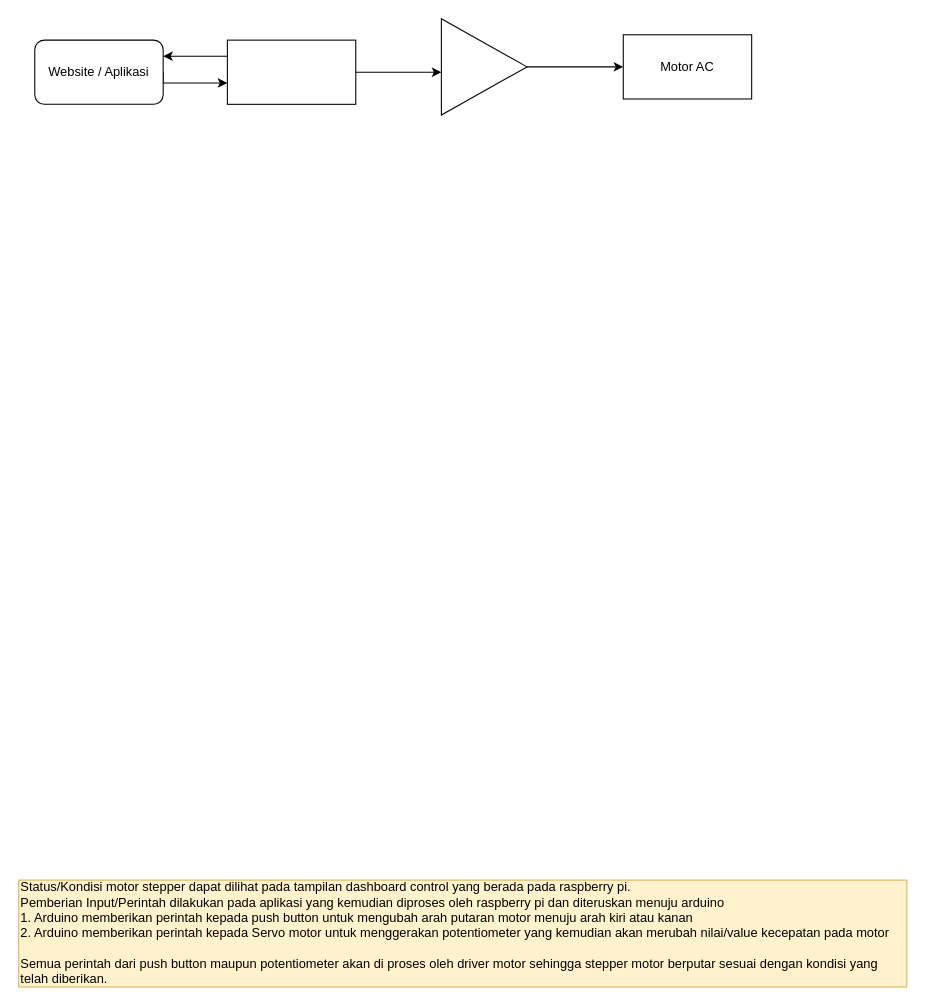
This 926x1006 diagram has some shape labels left out. Here are the shapes that lost their labels. From the top down, the centre of each, then its label:
the point at 291,71: Node-RED [Process] [Raspberry Pi]
the point at 483,66: Selector Switch
